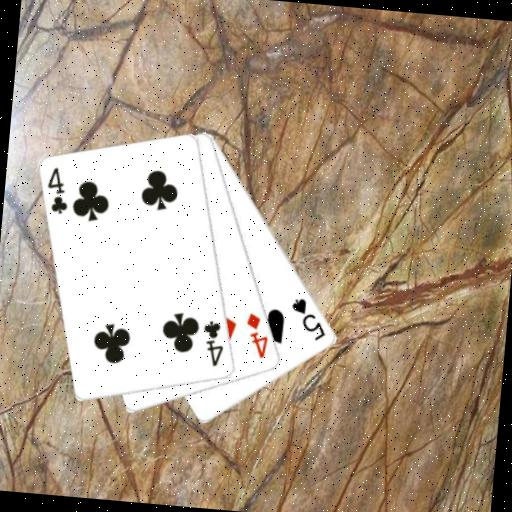4C: (42, 164, 73, 217), (198, 317, 228, 370)
4D: (241, 310, 273, 361)
5S: (286, 294, 330, 343)
